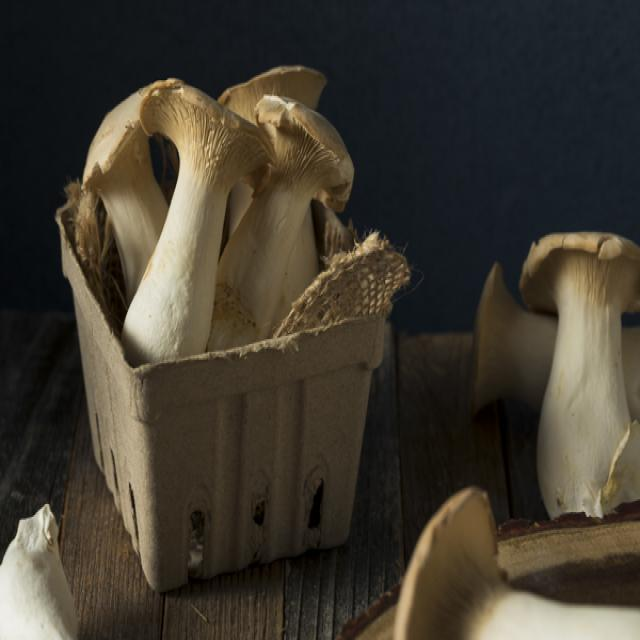Pleurotus eryngii: (78, 76, 264, 354), (399, 489, 640, 640), (526, 230, 640, 517), (224, 92, 356, 315)
